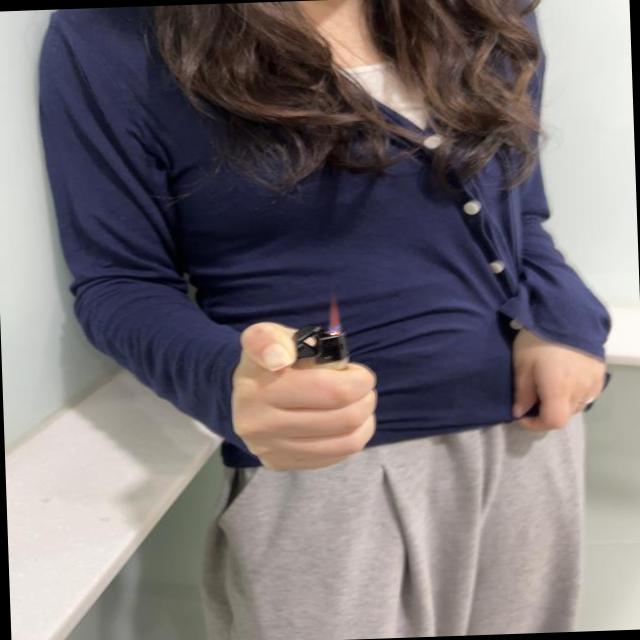Fire: (326, 294, 340, 334)
